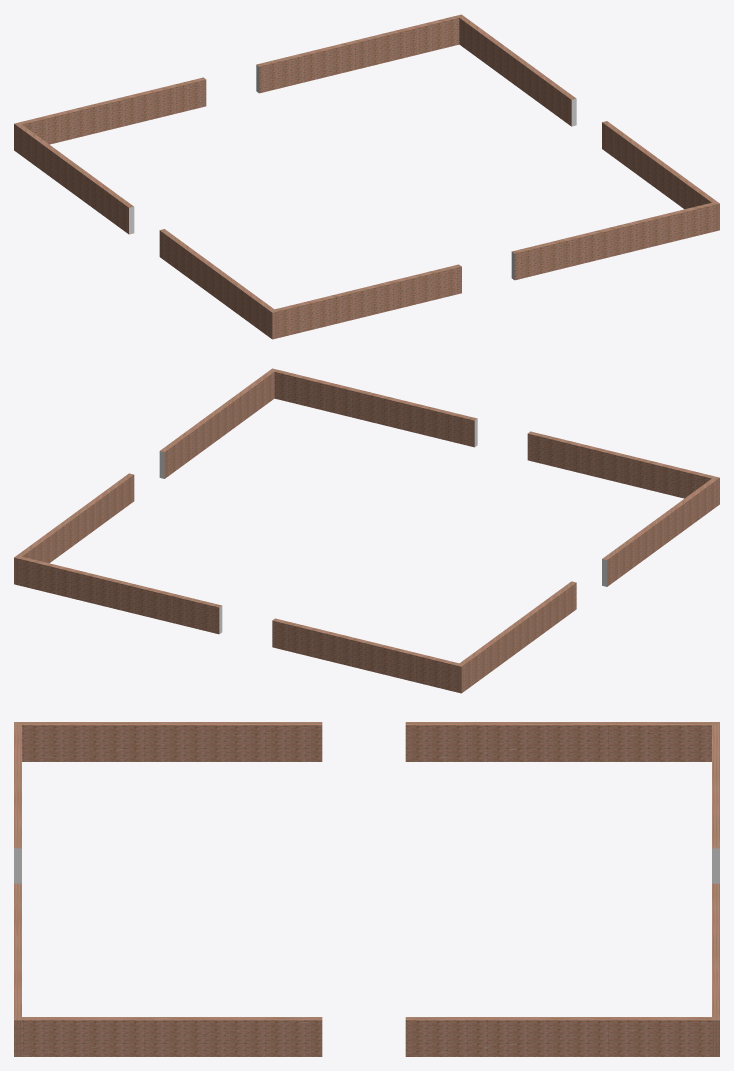
File: wall.fbx
The picture shows the model from 3 angles, top to bottom: view 1: azimuth 30°, elevation 25°; view 2: azimuth 150°, elevation 25°; view 3: azimuth 270°, elevation 25°; orthographic projection. The views are drawn at different scales.
Visible parts, largest first — view 1: Cube_2_2, Cube_3, Cube, Cube_1; view 2: Cube_3, Cube_2_2, Cube, Cube_1; view 3: Cube, Cube_1, Cube_3, Cube_2_2.
Part boxes in pixels (x1,y1,x2,y2): Cube_2_2: (269, 202, 717, 338); Cube_3: (14, 15, 459, 152); Cube: (14, 123, 277, 339); Cube_1: (457, 14, 719, 231); Cube_3: (16, 556, 464, 692); Cube_2_2: (270, 369, 719, 506); Cube: (456, 476, 719, 693); Cube_1: (14, 368, 276, 585); Cube: (14, 722, 719, 761); Cube_1: (14, 1017, 718, 1056); Cube_3: (712, 722, 719, 1056); Cube_2_2: (14, 722, 21, 1056).
Bounding box in the file's own units: 7000 × 400 × 7000.
4 materials, 4 textured.
